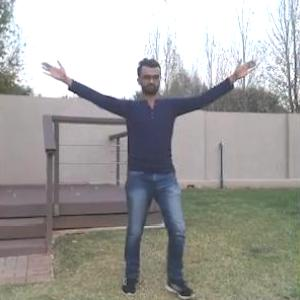takeoff: (34, 61, 238, 292)
